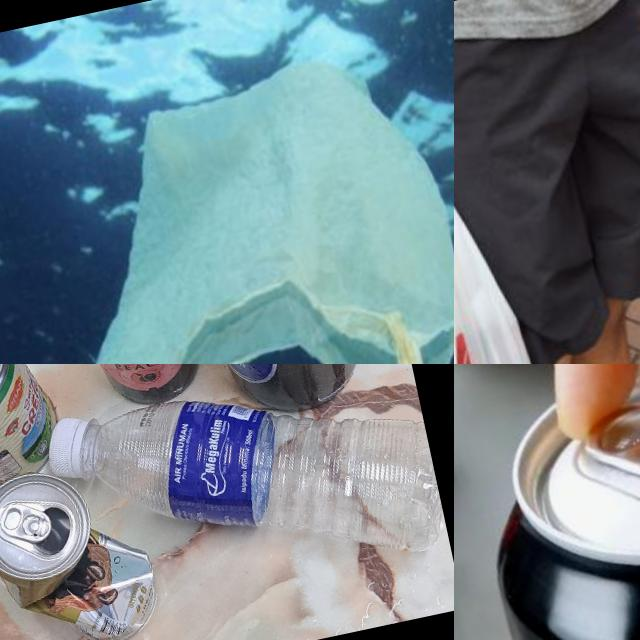aba de lata: (573, 383, 640, 500), (0, 494, 61, 555)
garrafa plástica: (39, 364, 449, 621)
lata: (460, 364, 640, 640), (0, 452, 169, 640), (0, 364, 67, 502)
sacola plástica: (4, 49, 454, 364), (454, 119, 618, 364), (598, 20, 640, 364)
tampa plástica: (38, 404, 108, 488)
